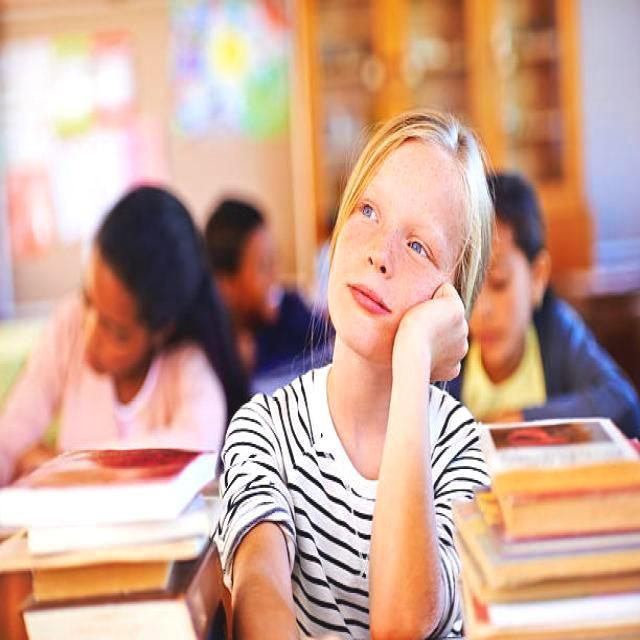Looking away: (330, 134, 456, 358)
